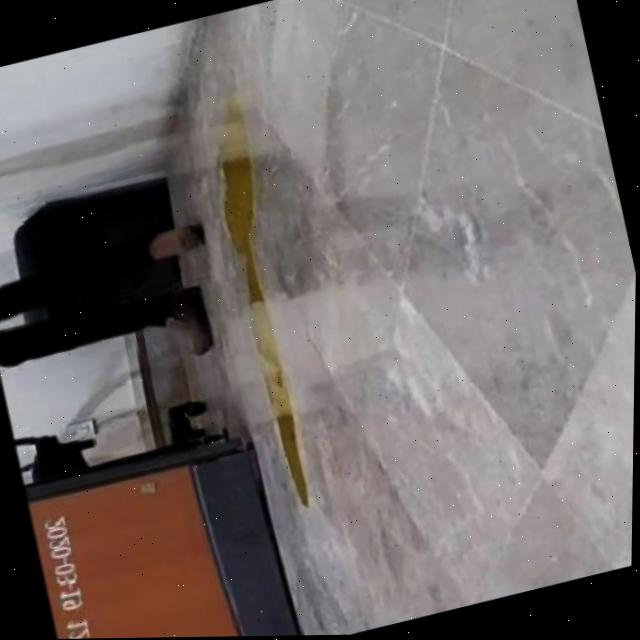spillage: (220, 121, 316, 510)
